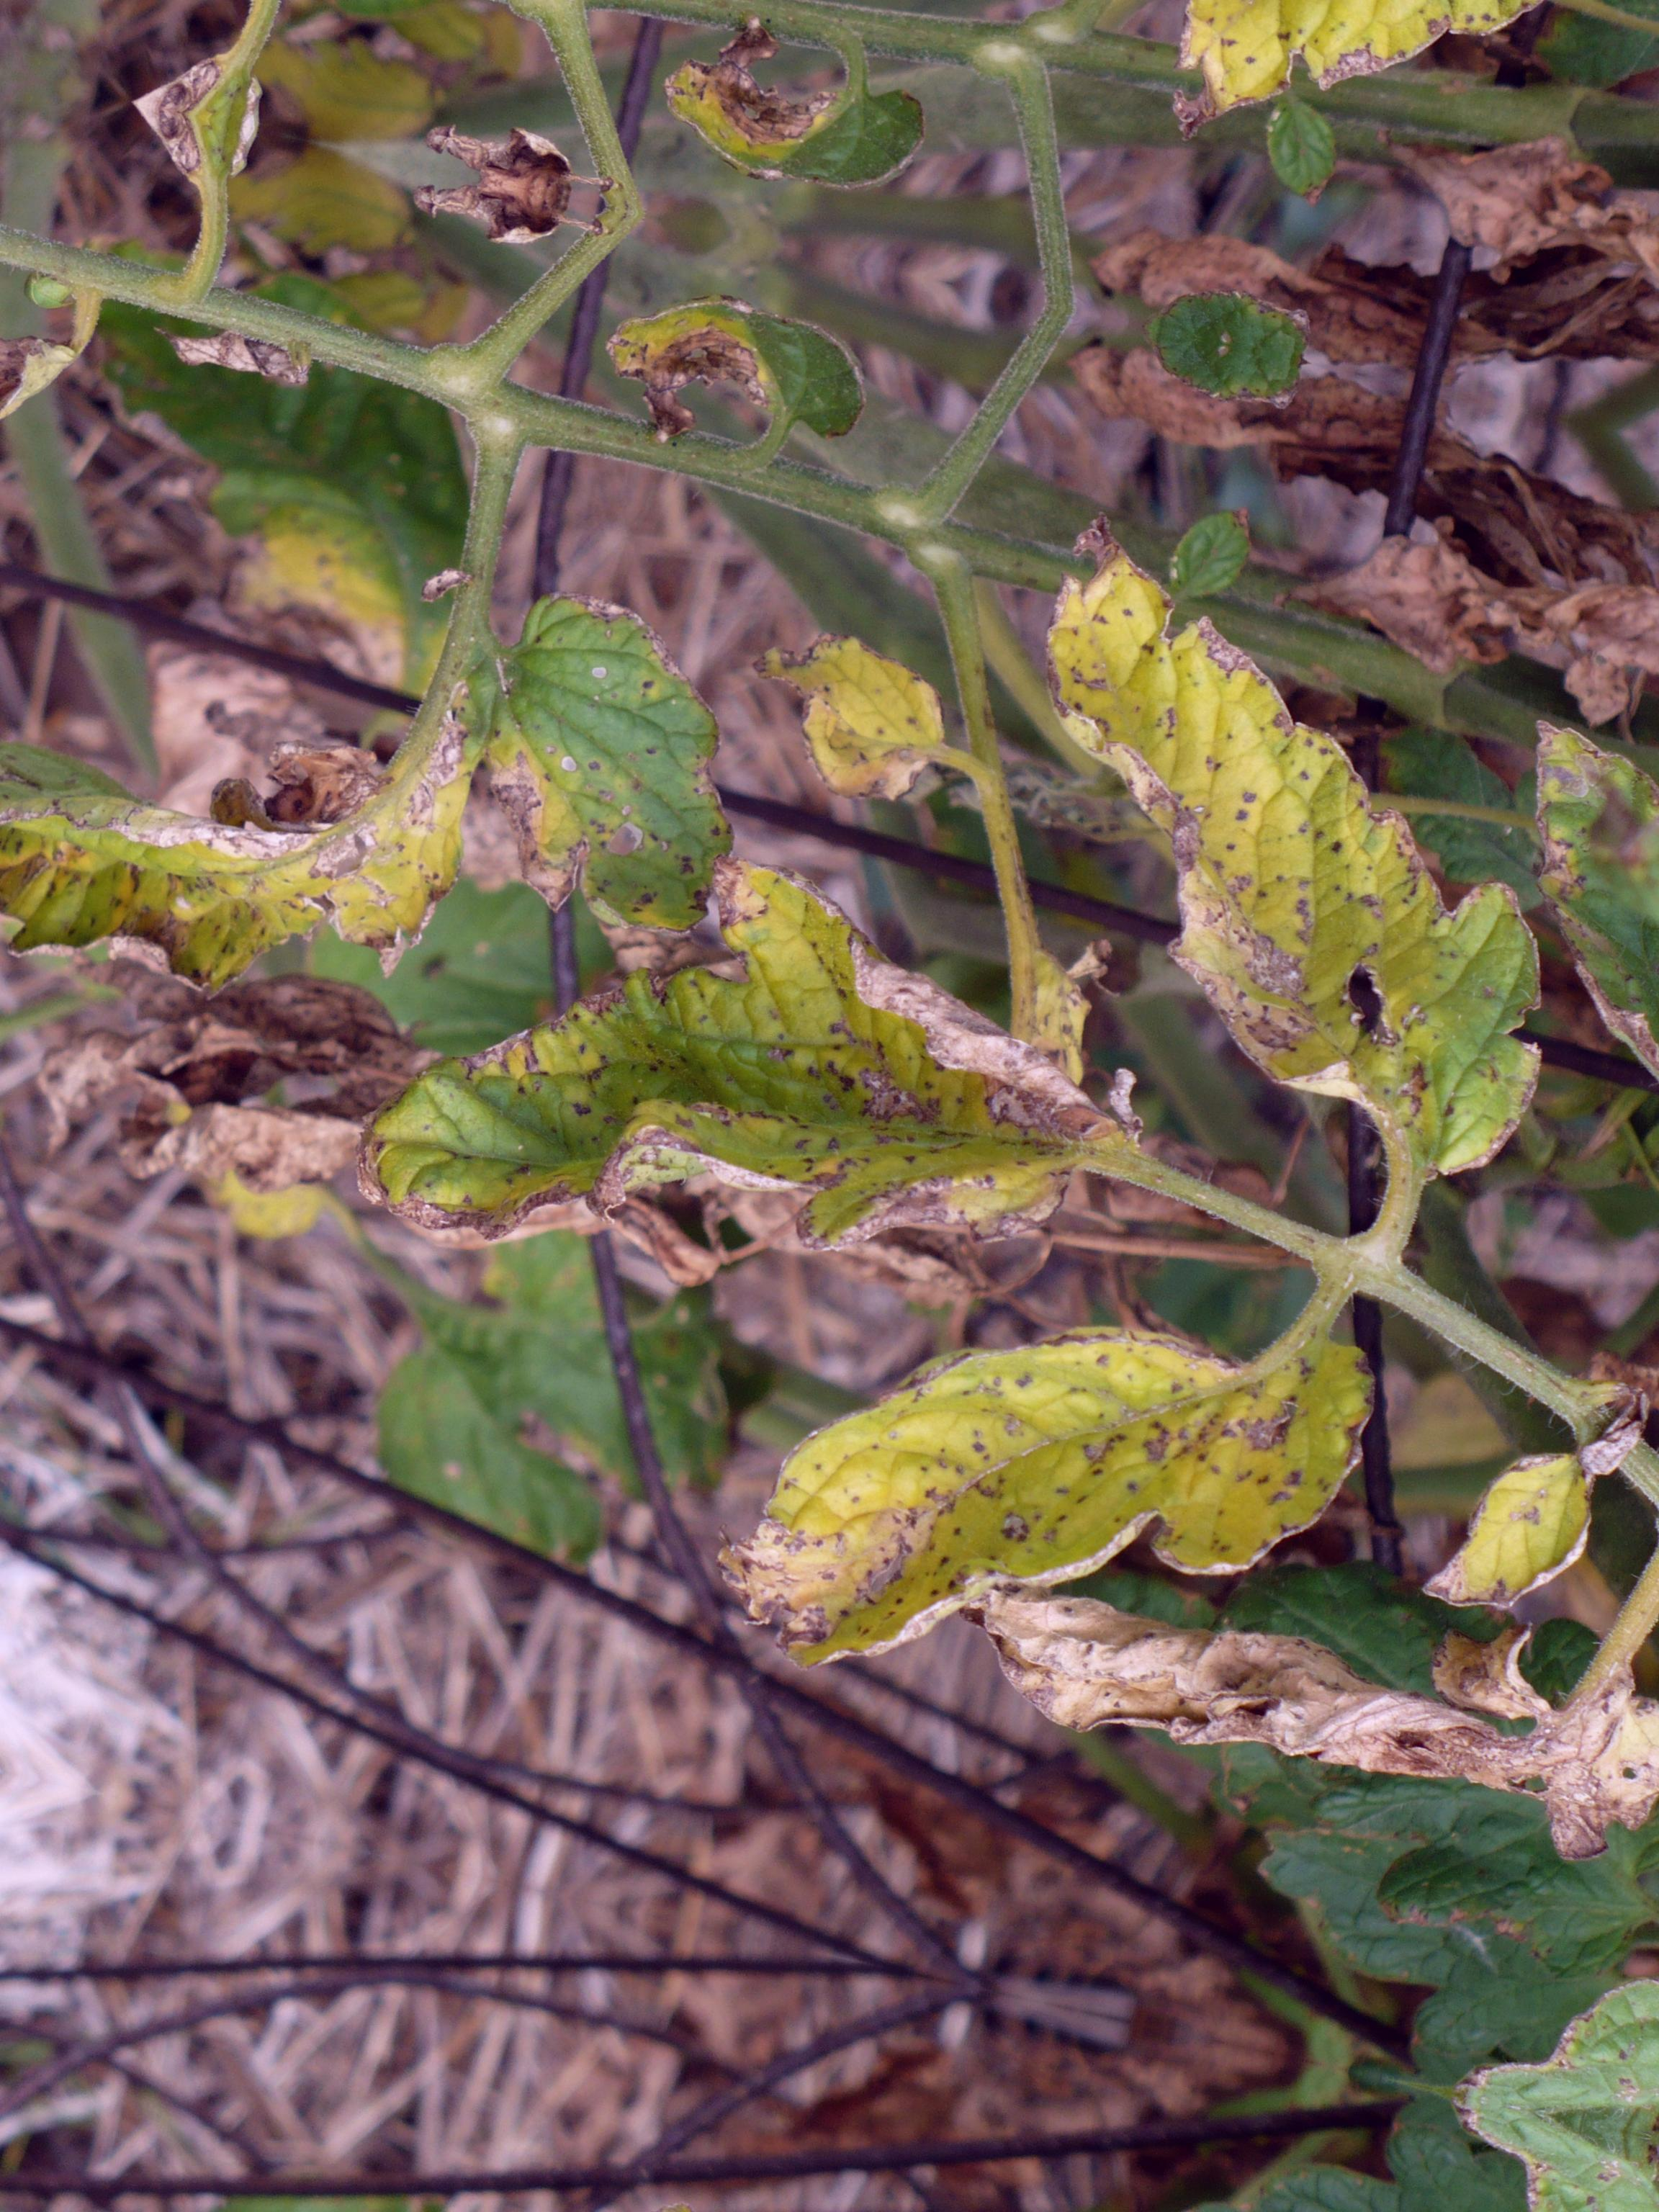Tomato Septoria leaf spot: (904, 484, 1654, 1238), (0, 357, 760, 1099), (361, 784, 1136, 1395), (723, 1183, 1406, 1730)
